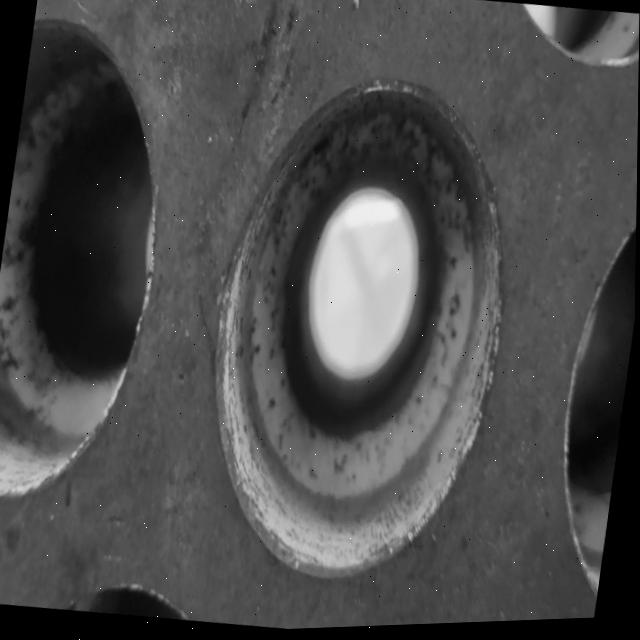Hole: (186, 56, 534, 609), (0, 12, 187, 573), (534, 102, 639, 624)
